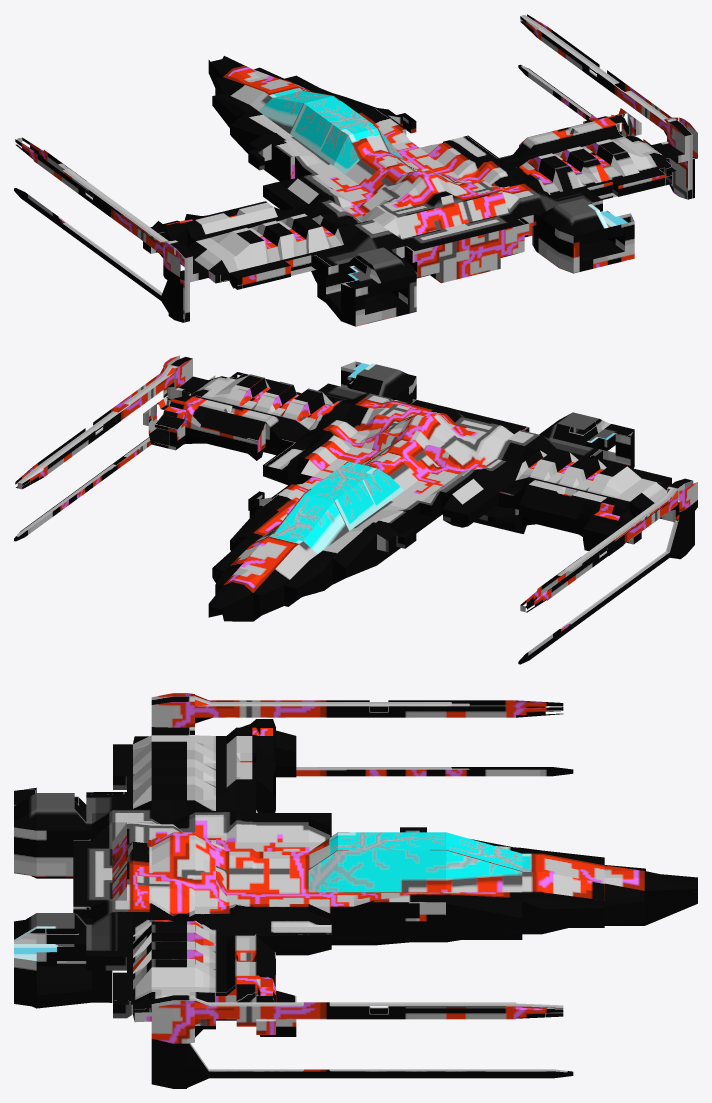
File: EnemyShip.fbx
3 renders of one model, top to bottom at view 1: azimuth 30°, elevation 25°; view 2: azimuth 150°, elevation 25°; view 3: azimuth 270°, elevation 25°, orthographic. The views are drawn at different scales.
Parts seen in each view (by area): view 1: Plane; view 2: Plane; view 3: Plane.
Boxes of the visible parts, left/top/right/bottom form: Plane: left=14, top=14, right=697, bottom=326; Plane: left=14, top=355, right=697, bottom=664; Plane: left=14, top=693, right=697, bottom=1088.
Size of the model in its own units: 215 by 36.01 by 199.
